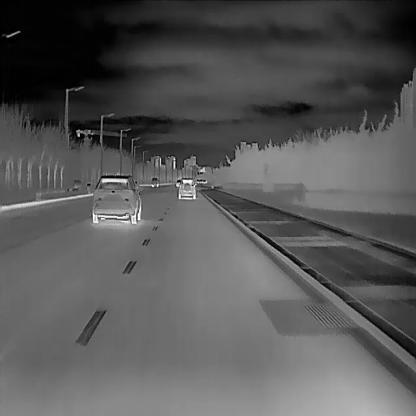car: (91, 174, 141, 223), (178, 177, 196, 199), (150, 176, 159, 187), (176, 179, 182, 187), (199, 178, 203, 183), (202, 179, 207, 183), (196, 179, 199, 183)
